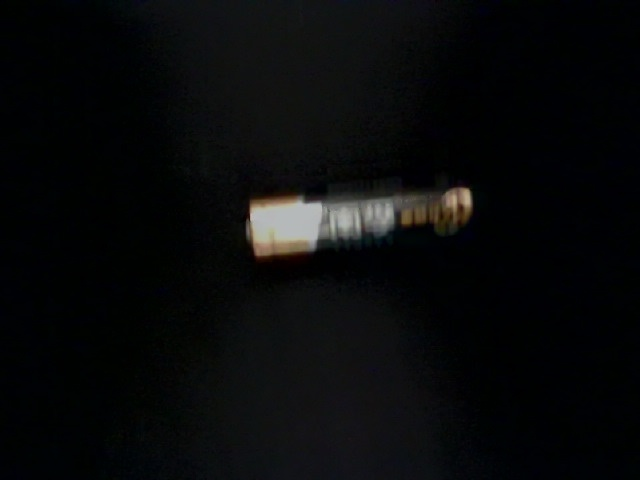QTLJ: (64, 410, 209, 480)
